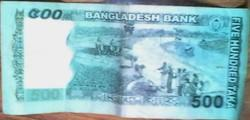500 taka: (1, 1, 241, 119)
